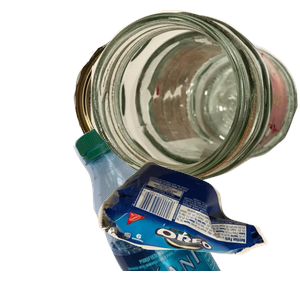glass: (90, 10, 300, 184)
metal: (71, 29, 276, 193)
plastic: (71, 120, 300, 300)
trash: (95, 158, 300, 300)
